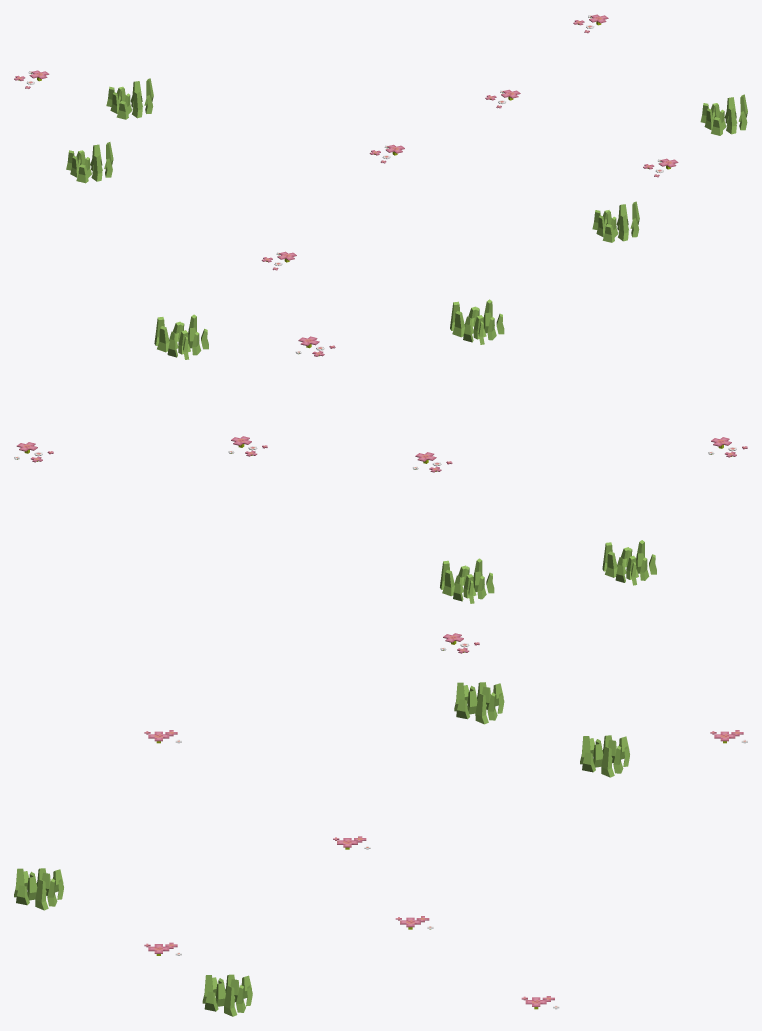
The model's file is flower_grass 12.fbx.
3 views of the same model, one above another, from view 1: azimuth 30°, elevation 25°; view 2: azimuth 150°, elevation 25°; view 3: azimuth 270°, elevation 25° (orthographic). The views are drawn at different scales.
Visible parts, largest first — view 1: Flower_B_4; view 2: Flower_B_4; view 3: Flower_B_4.
Boxes of the visible parts, bbox=[...] form: Flower_B_4: bbox=[14, 14, 747, 270]; Flower_B_4: bbox=[14, 299, 747, 653]; Flower_B_4: bbox=[14, 682, 747, 1016].
Bounding box in the file's own units: 7146 × 294 × 7003.
2 materials, 2 textured.
